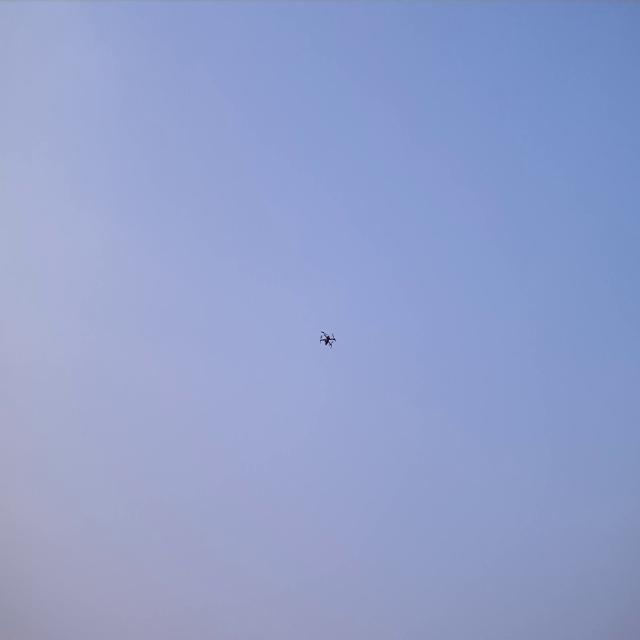UAV: (318, 328, 336, 350)
